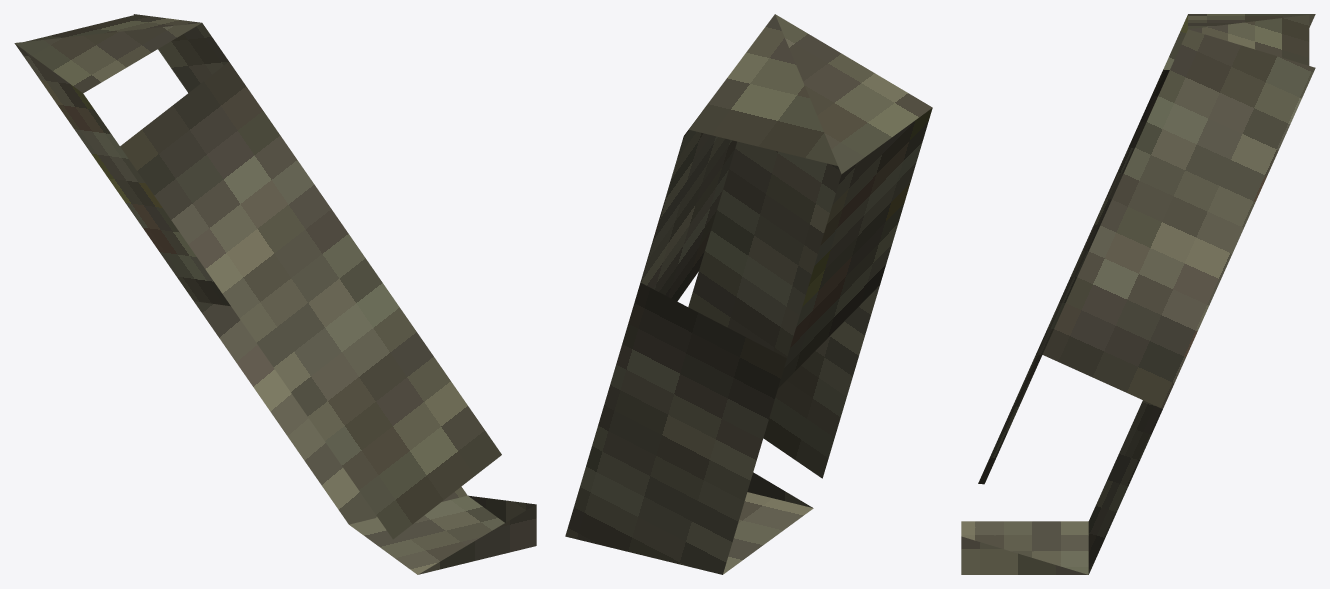
The model's file is larch_branch_22.5_diagonal.obj.
3 views of the same model, side by side, from view 1: azimuth 30°, elevation 25°; view 2: azimuth 150°, elevation 25°; view 3: azimuth 270°, elevation 25° (orthographic). The views are drawn at different scales.
Parts seen in each view (by area): view 1: cube; view 2: cube; view 3: cube.
Part boxes in pixels (x1,y1,x2,y2): cube: [14, 14, 536, 574]; cube: [565, 14, 932, 574]; cube: [961, 14, 1315, 574].
Size of the model in its own units: 1.56 by 2.19 by 1.56.
